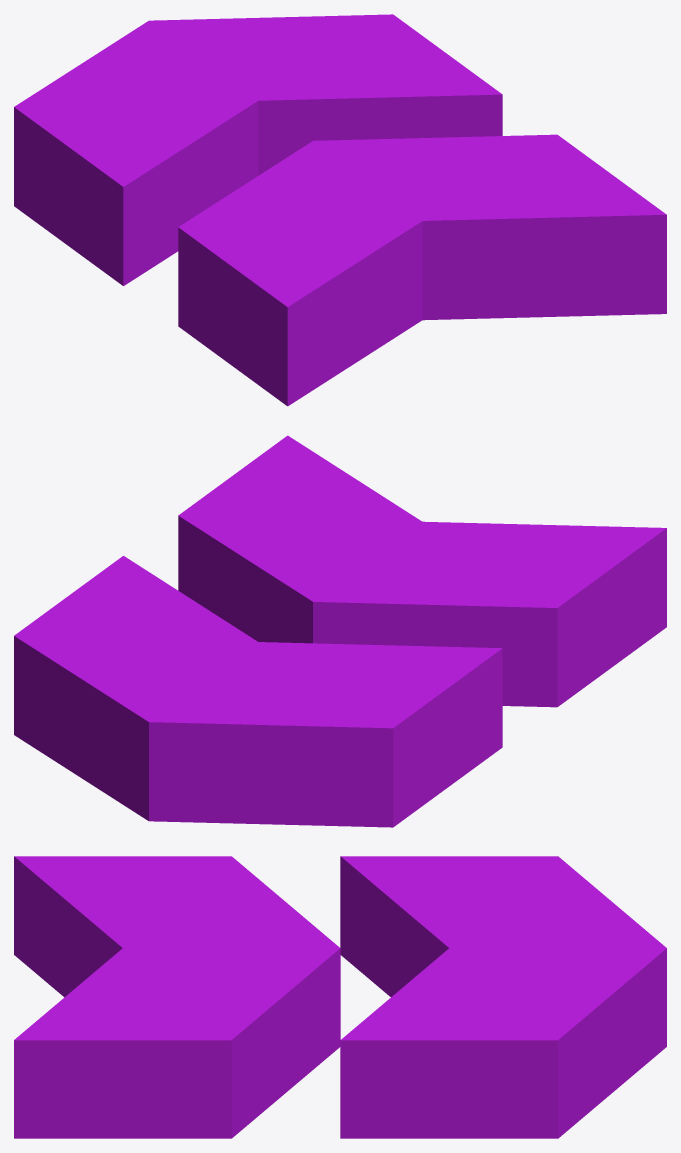
Rendered from powerup_chevron_shot.fbx.
3 views of the same model, one above another, from view 1: azimuth 30°, elevation 25°; view 2: azimuth 150°, elevation 25°; view 3: azimuth 270°, elevation 25° (orthographic).
Parts seen in each view (by area): view 1: powerup_chevron_shot.001; view 2: powerup_chevron_shot.001; view 3: powerup_chevron_shot.001.
Boxes of the visible parts, <box> form: powerup_chevron_shot.001: <box>14,14,666,406</box>; powerup_chevron_shot.001: <box>14,435,666,827</box>; powerup_chevron_shot.001: <box>14,856,666,1138</box>.
Bounding box in the file's own units: 100 × 25 × 150.
